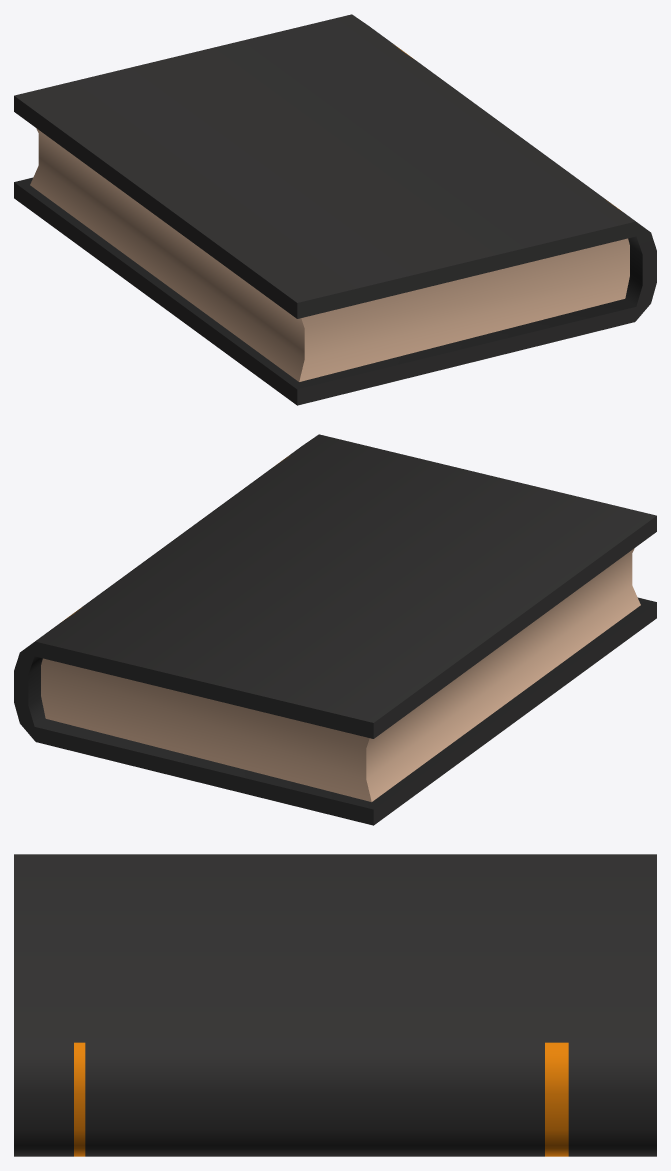
The model's file is BookClosed6.fbx.
The picture shows the model from 3 angles, top to bottom: view 1: azimuth 30°, elevation 25°; view 2: azimuth 150°, elevation 25°; view 3: azimuth 270°, elevation 25°; orthographic projection. The views are drawn at different scales.
Parts seen in each view (by area): view 1: BookClosed6; view 2: BookClosed6; view 3: BookClosed6.
Boxes of the visible parts, left/top/right/bottom form: BookClosed6: left=14, top=14, right=656, bottom=405; BookClosed6: left=14, top=434, right=656, bottom=825; BookClosed6: left=14, top=854, right=656, bottom=1156.
Size of the model in its own units: 22 by 6 by 30.01.
